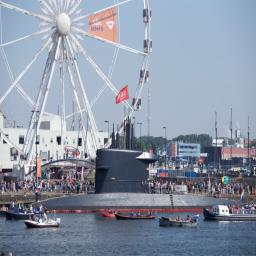submarine: (26, 110, 238, 212)
